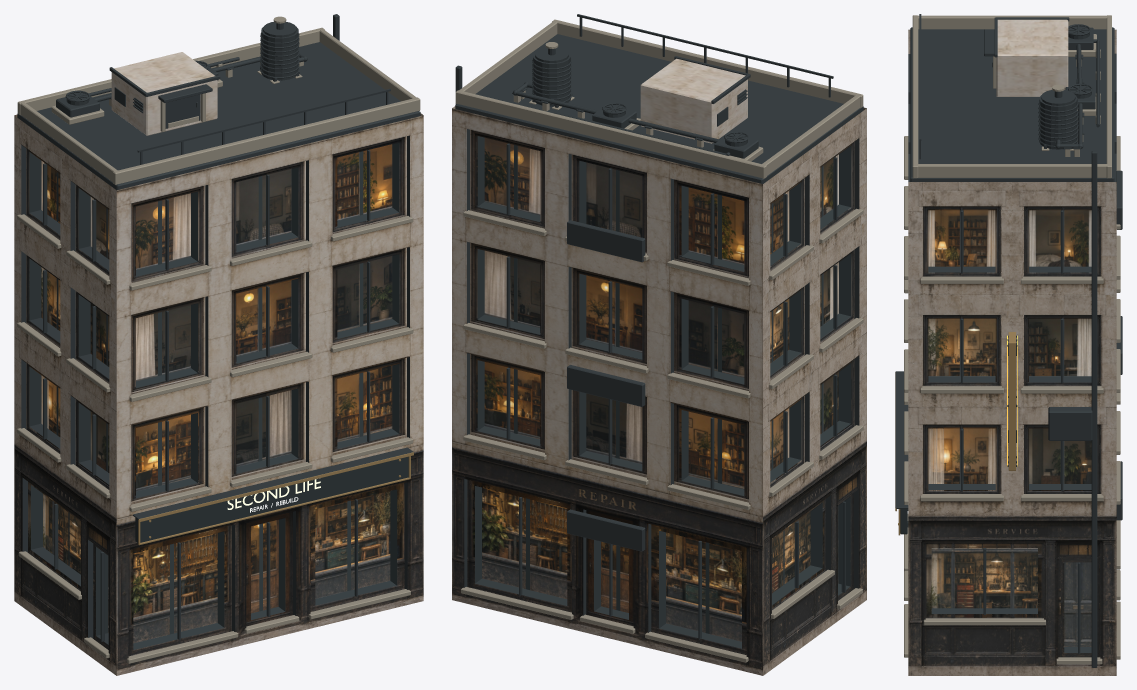
Rendered from repair-relief-v5.glb.
The picture shows the model from 3 angles, left to right: view 1: azimuth 30°, elevation 25°; view 2: azimuth 150°, elevation 25°; view 3: azimuth 270°, elevation 25°; orthographic projection.
Parts seen in each view (by area): view 1: ReliefBuilding_WallFront, ReliefBuilding_Metal, ReliefBuilding_RoomFront, ReliefBuilding_WallSide, ReliefBuilding_Stone, ReliefBuilding_RoomSide, Identity_RI_Enamel, RR_Metal, Identity_RI_Brass, Identity_RB_Metal, RR_Stone; view 2: ReliefBuilding_WallFront, ReliefBuilding_Metal, ReliefBuilding_RoomFront, ReliefBuilding_WallSide, ReliefBuilding_Stone, ReliefBuilding_RoomSide, RR_Metal, RR_Stone; view 3: ReliefBuilding_WallSide, ReliefBuilding_Metal, ReliefBuilding_RoomSide, ReliefBuilding_Stone, RR_Metal, Identity_RB_Metal, Identity_RI_Brass, RR_Stone.
Boxes of the visible parts, <box> form: ReliefBuilding_WallFront: <box>14,114,423,675</box>; ReliefBuilding_Metal: <box>17,14,420,649</box>; ReliefBuilding_RoomFront: <box>133,144,392,643</box>; ReliefBuilding_WallSide: <box>14,113,423,675</box>; ReliefBuilding_Stone: <box>17,27,420,663</box>; ReliefBuilding_RoomSide: <box>41,161,109,632</box>; Identity_RI_Enamel: <box>135,456,408,542</box>; RR_Metal: <box>56,22,307,128</box>; Identity_RI_Brass: <box>138,452,413,545</box>; Identity_RB_Metal: <box>132,447,413,519</box>; RR_Stone: <box>51,16,303,132</box>; ReliefBuilding_WallFront: <box>452,107,866,675</box>; ReliefBuilding_Metal: <box>455,14,863,648</box>; ReliefBuilding_RoomFront: <box>482,137,744,641</box>; ReliefBuilding_WallSide: <box>452,106,866,675</box>; ReliefBuilding_Stone: <box>455,19,863,662</box>; ReliefBuilding_RoomSide: <box>770,154,838,593</box>; RR_Metal: <box>512,47,758,158</box>; RR_Stone: <box>513,42,763,161</box>; ReliefBuilding_WallSide: <box>908,29,1116,675</box>; ReliefBuilding_Metal: <box>908,14,1122,667</box>; ReliefBuilding_RoomSide: <box>928,210,1091,646</box>; ReliefBuilding_Stone: <box>904,15,1120,664</box>; RR_Metal: <box>984,17,1099,149</box>; Identity_RB_Metal: <box>895,342,1016,526</box>; Identity_RI_Brass: <box>895,332,1015,535</box>; RR_Stone: <box>993,34,1100,156</box>.
Size of the model in its own units: 9.94 by 15.25 by 5.67.
Materials: 13 (5 with a texture image).
